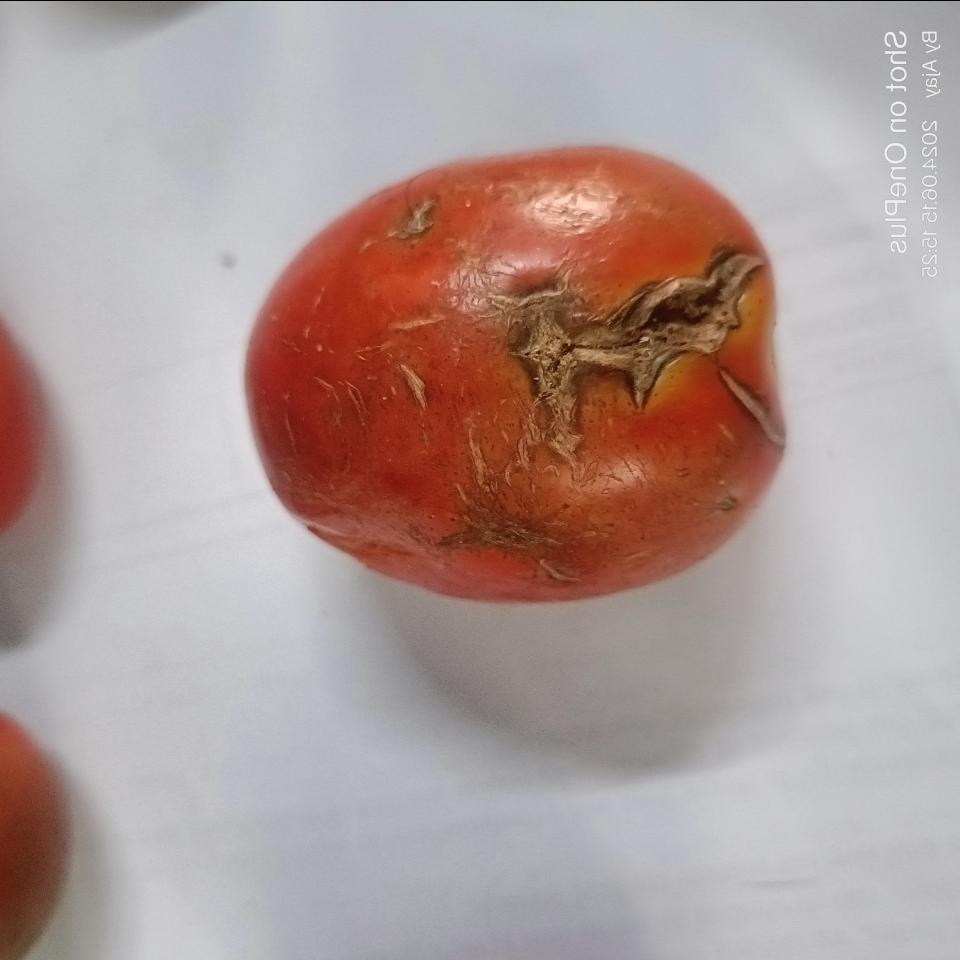Cracking: (496, 222, 789, 474)
